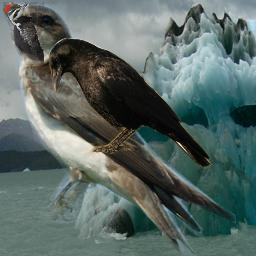Crow: (49, 38, 213, 168)
Swallow: (6, 4, 236, 256)
Woodpecker: (3, 2, 44, 65)
